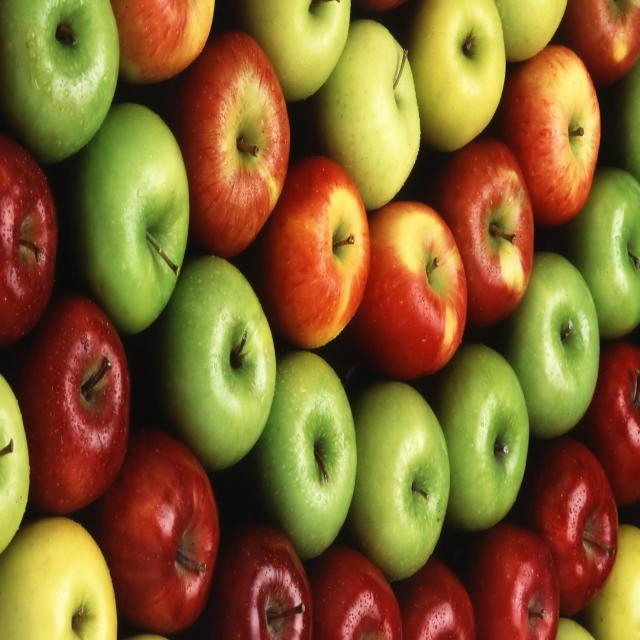apple: (83, 99, 193, 341), (150, 258, 275, 470), (9, 298, 130, 508), (180, 39, 290, 254), (242, 352, 346, 560), (428, 347, 530, 534), (0, 2, 119, 162), (431, 142, 534, 324), (500, 258, 601, 438), (500, 46, 600, 226), (314, 20, 410, 207), (356, 381, 450, 569), (358, 201, 458, 374), (406, 2, 506, 150), (565, 172, 640, 334)
